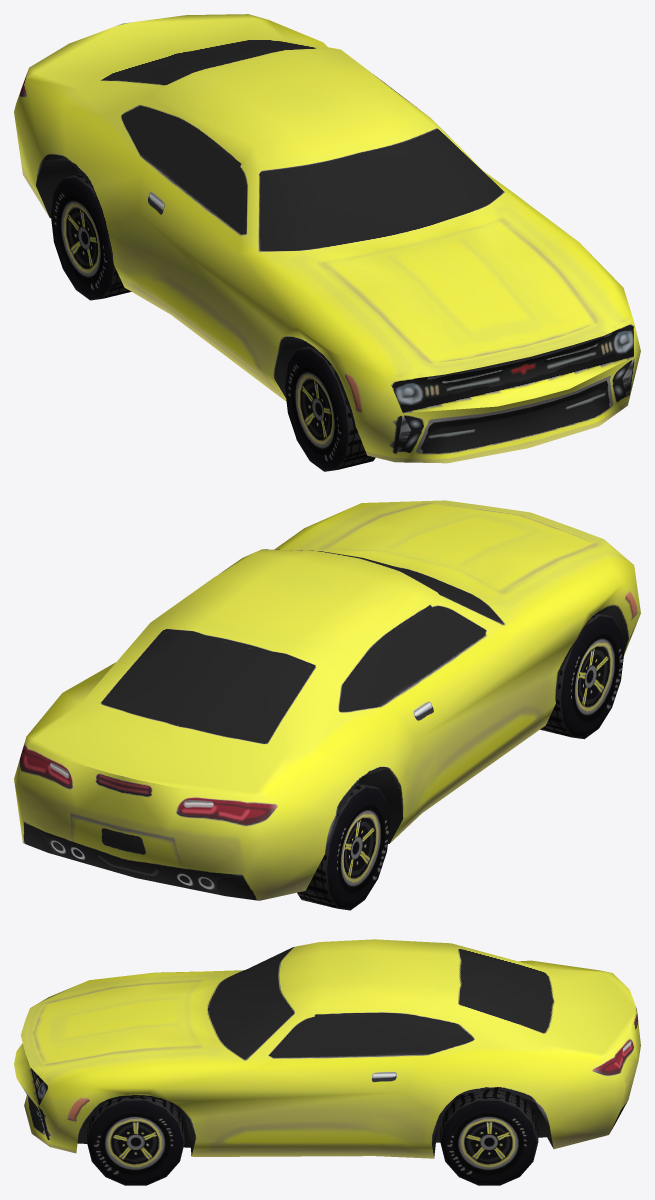
The model's file is Romaro.fbx.
3 views of the same model, one above another, from view 1: azimuth 30°, elevation 25°; view 2: azimuth 150°, elevation 25°; view 3: azimuth 270°, elevation 25° (orthographic). The views are drawn at different scales.
Visible parts, largest first — view 1: RomaroBody, WheelFR, WheelBR; view 2: RomaroBody, WheelBR, WheelFR; view 3: RomaroBody, WheelBL, WheelFL.
Boxes of the visible parts, box(x1,y1,x2,y2) form: RomaroBody: box(14, 14, 640, 463); WheelFR: box(284, 345, 375, 471); WheelBR: box(50, 173, 131, 300); RomaroBody: box(14, 500, 640, 900); WheelBR: box(297, 782, 389, 910); WheelFR: box(540, 613, 623, 739); RomaroBody: box(14, 939, 640, 1158); WheelBL: box(440, 1087, 538, 1185); WheelFL: box(87, 1096, 184, 1185).
Size of the model in its own units: 194 by 140 by 471.
